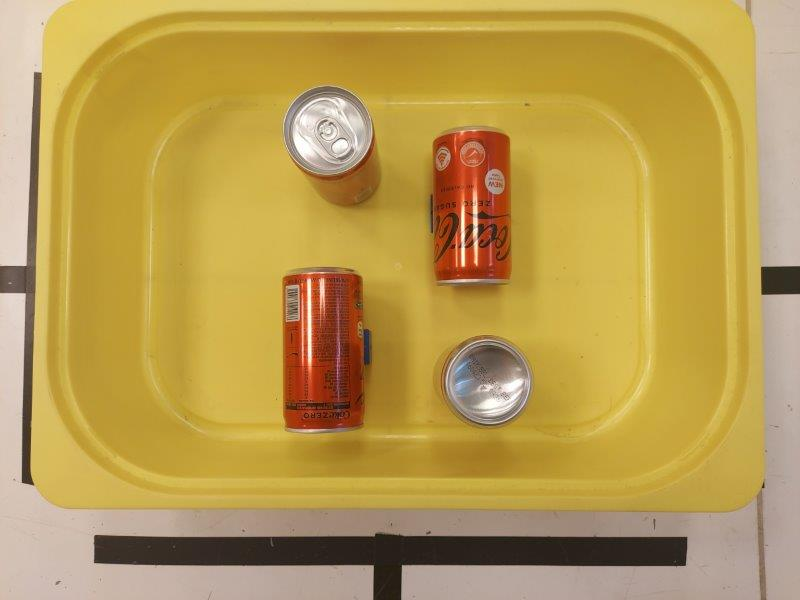Coke: (282, 266, 364, 432), (281, 86, 382, 209), (432, 125, 509, 286), (440, 335, 534, 425)
